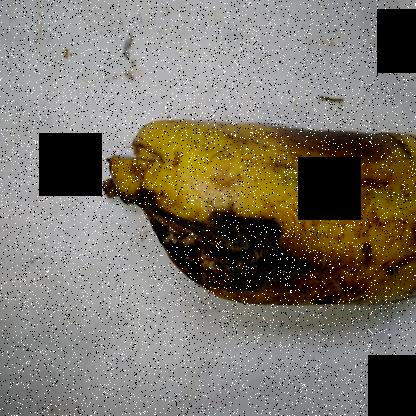ripe: (320, 117, 416, 317)
rotten: (92, 176, 359, 327), (255, 94, 410, 178)
